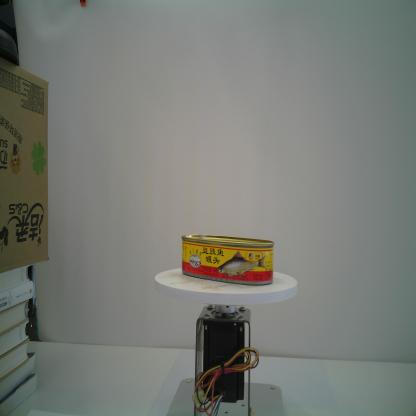Canned Food: (181, 233, 276, 287)
